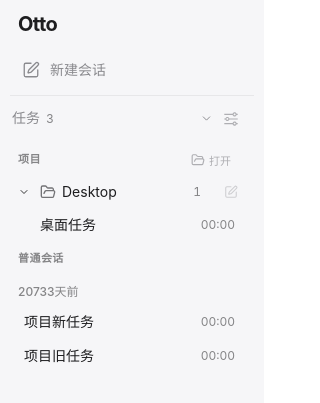
Test: Sidebar：任务分组方式 › 重新打开被删除的目录时恢复项目归类
Click the button with aria-label "打开新项目": click(211, 160) [185,148,237,172]
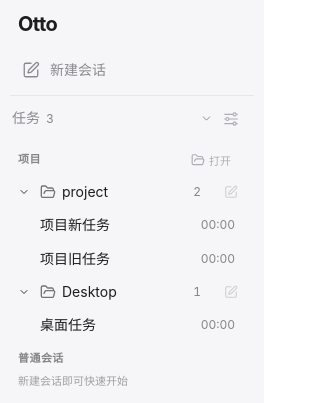
Check: the button with aria-label "project，2 个会话" is shown, box [10,175,215,209]
